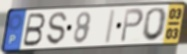8: (72, 11, 92, 45)
B: (21, 12, 47, 48)
I: (103, 8, 118, 45)
O: (141, 6, 169, 42)
P: (119, 7, 145, 44)
S: (46, 11, 69, 47)
